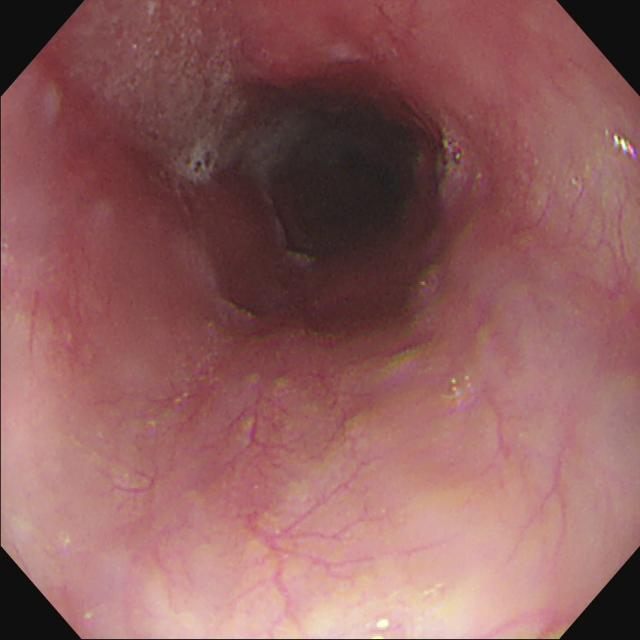E: (271, 112, 419, 263)
T: (82, 2, 247, 186)
